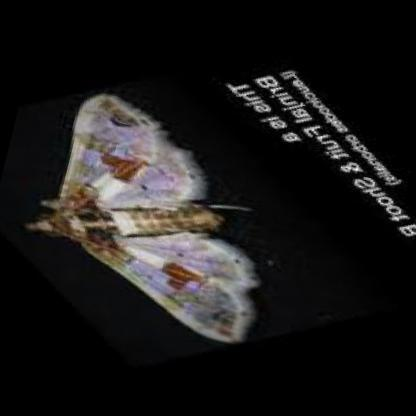leucinodes: (20, 94, 258, 344)
